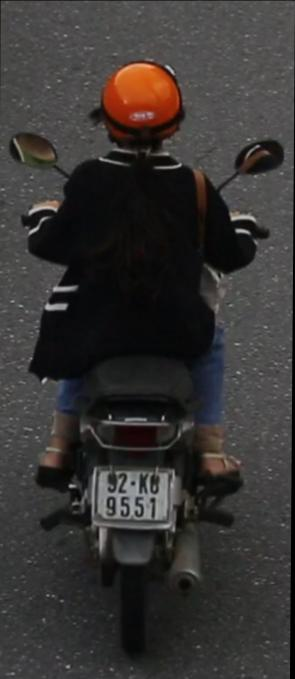LP: (87, 461, 176, 534)
helmet: (95, 55, 193, 165)
